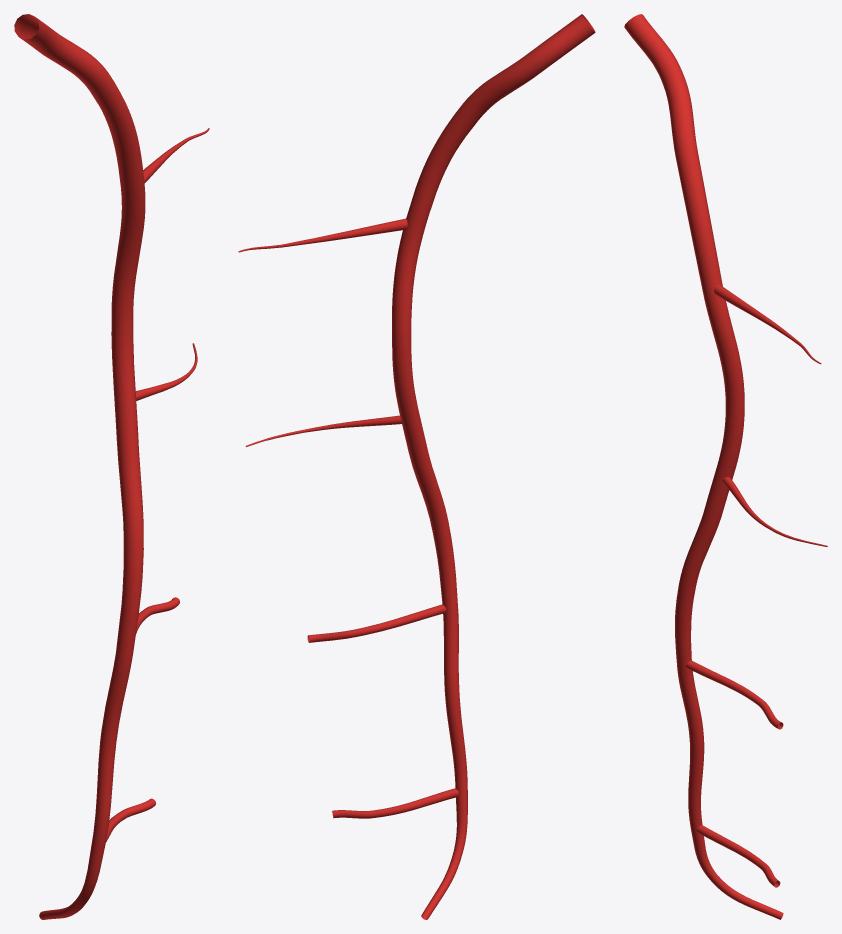
The model's file is circulatorio-deep-femoral-vein-l.glb.
3 renders of one model, left to right at view 1: azimuth 30°, elevation 25°; view 2: azimuth 150°, elevation 25°; view 3: azimuth 270°, elevation 25°, orthographic. The views are drawn at different scales.
Parts seen in each view (by area): view 1: Deep femoral vein.l, Perforating veins.l; view 2: Deep femoral vein.l, Perforating veins.l; view 3: Deep femoral vein.l, Perforating veins.l.
Boxes of the visible parts, left/top/right/bottom form: Deep femoral vein.l: left=14, top=14, right=145, bottom=919; Perforating veins.l: left=106, top=128, right=209, bottom=841; Deep femoral vein.l: left=392, top=14, right=595, bottom=919; Perforating veins.l: left=238, top=218, right=458, bottom=818; Deep femoral vein.l: left=624, top=14, right=783, bottom=919; Perforating veins.l: left=686, top=285, right=827, bottom=887.
Size of the model in its own units: 0.0791 by 0.2501 by 0.0534.
